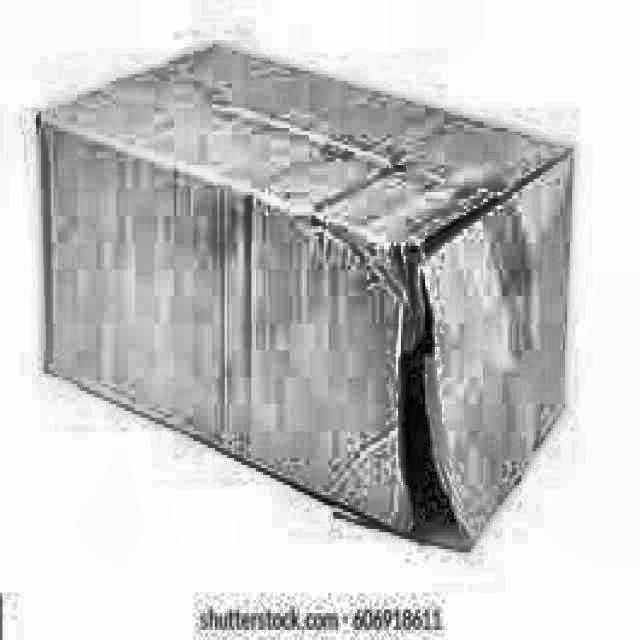box: (17, 32, 586, 578)
hole: (390, 273, 472, 561)
